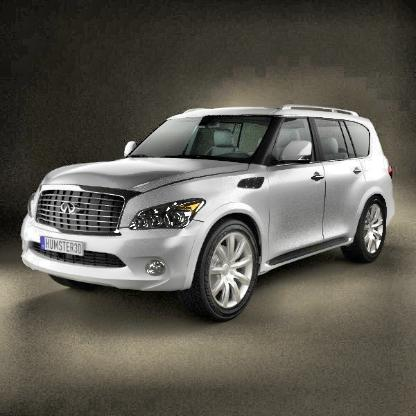Infiniti QX56 SUV 2011: (20, 103, 398, 327)
